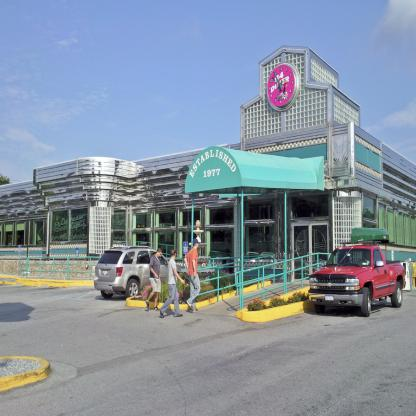Car: (308, 245, 409, 317), (93, 243, 182, 300)
Truck: (306, 237, 402, 316)
